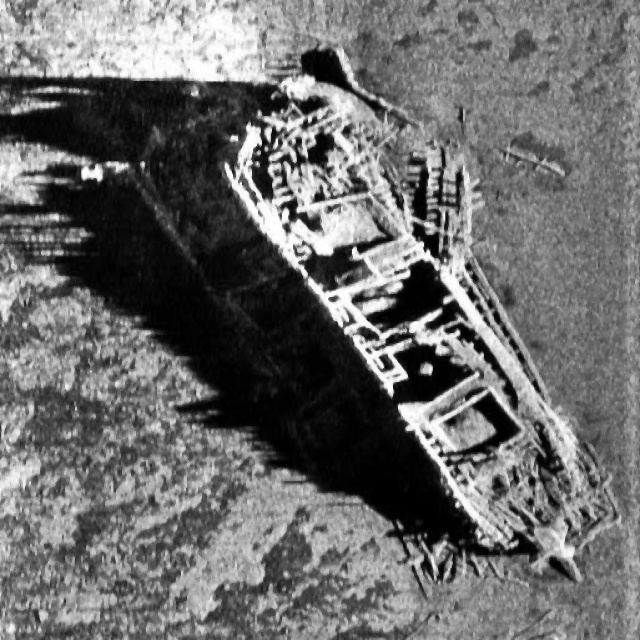Ship: (136, 33, 628, 597)
